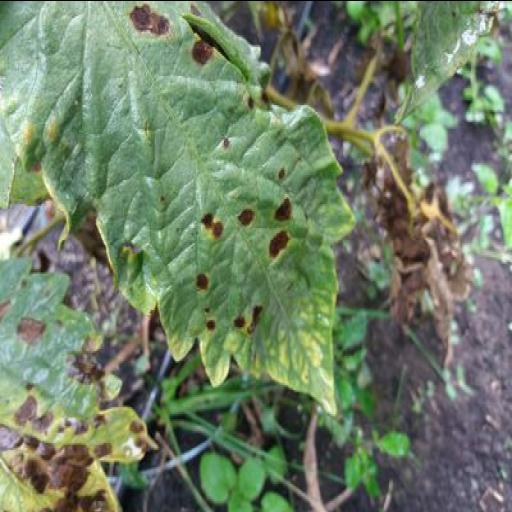disease_tomato: (16, 2, 358, 418)
